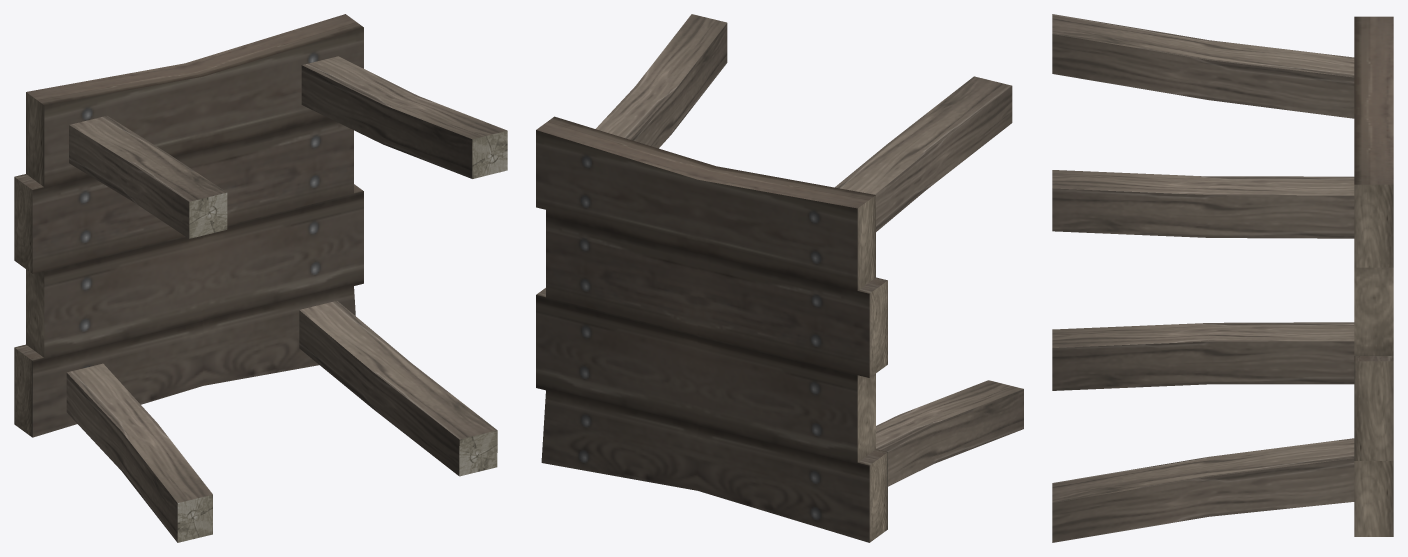
The model's file is Table_Square_Small_A.fbx.
The picture shows the model from 3 angles, left to right: view 1: azimuth 30°, elevation 25°; view 2: azimuth 150°, elevation 25°; view 3: azimuth 270°, elevation 25°; orthographic projection. The views are drawn at different scales.
Visible parts, largest first — view 1: Table_Square_Small_A; view 2: Table_Square_Small_A; view 3: Table_Square_Small_A.
Part boxes in pixels (bbox=[...]): Table_Square_Small_A: bbox=[14, 14, 507, 542]; Table_Square_Small_A: bbox=[536, 14, 1023, 542]; Table_Square_Small_A: bbox=[1052, 14, 1393, 542].
Bounding box in the file's own units: 1.13 × 1.1 × 0.9273.
